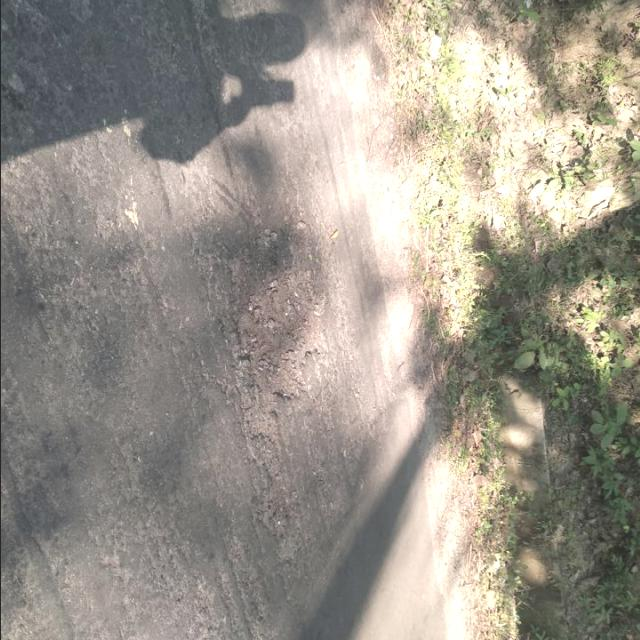pothole: (178, 187, 372, 407)
